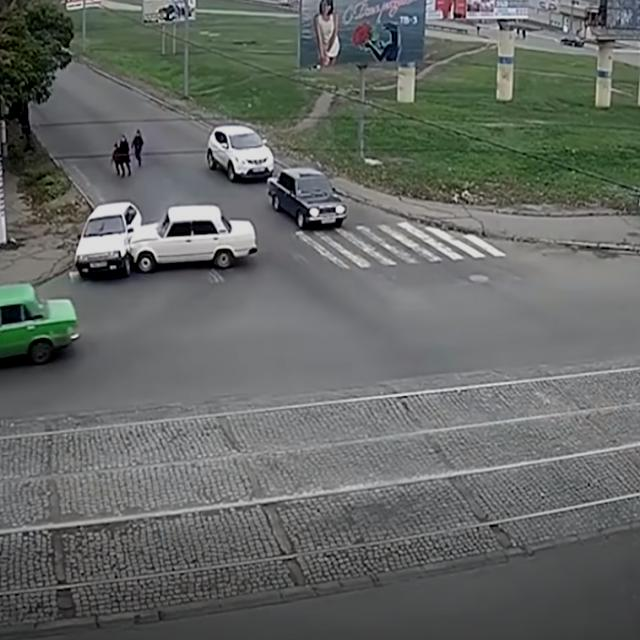accident: (74, 200, 258, 280)
non-accident: (208, 128, 348, 232)
